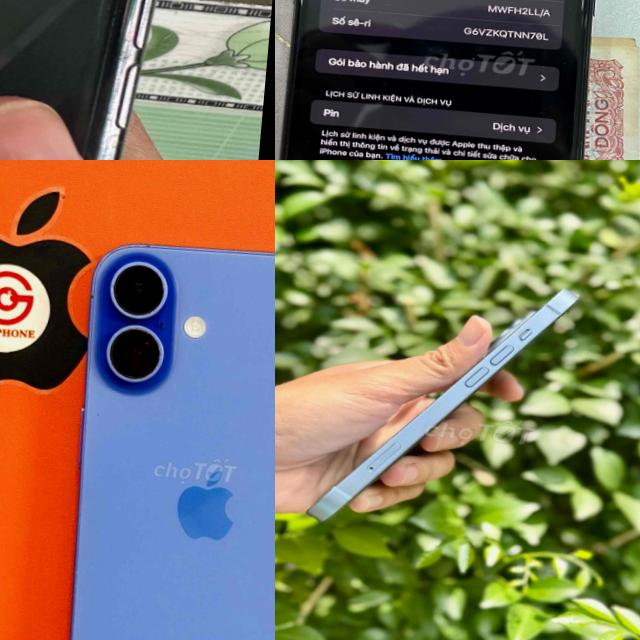gen_11: (275, 0, 615, 160)
gen_14: (302, 271, 588, 552)
gen_16: (37, 229, 275, 640)
gen_x_xs: (0, 0, 190, 160)
